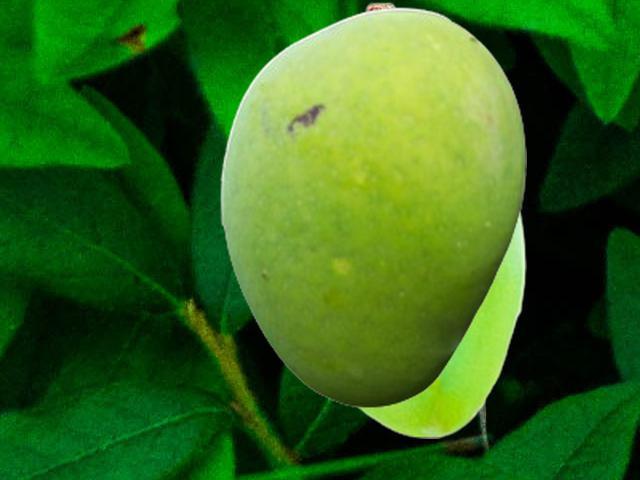green_mango: (219, 6, 525, 407), (353, 206, 525, 437)
